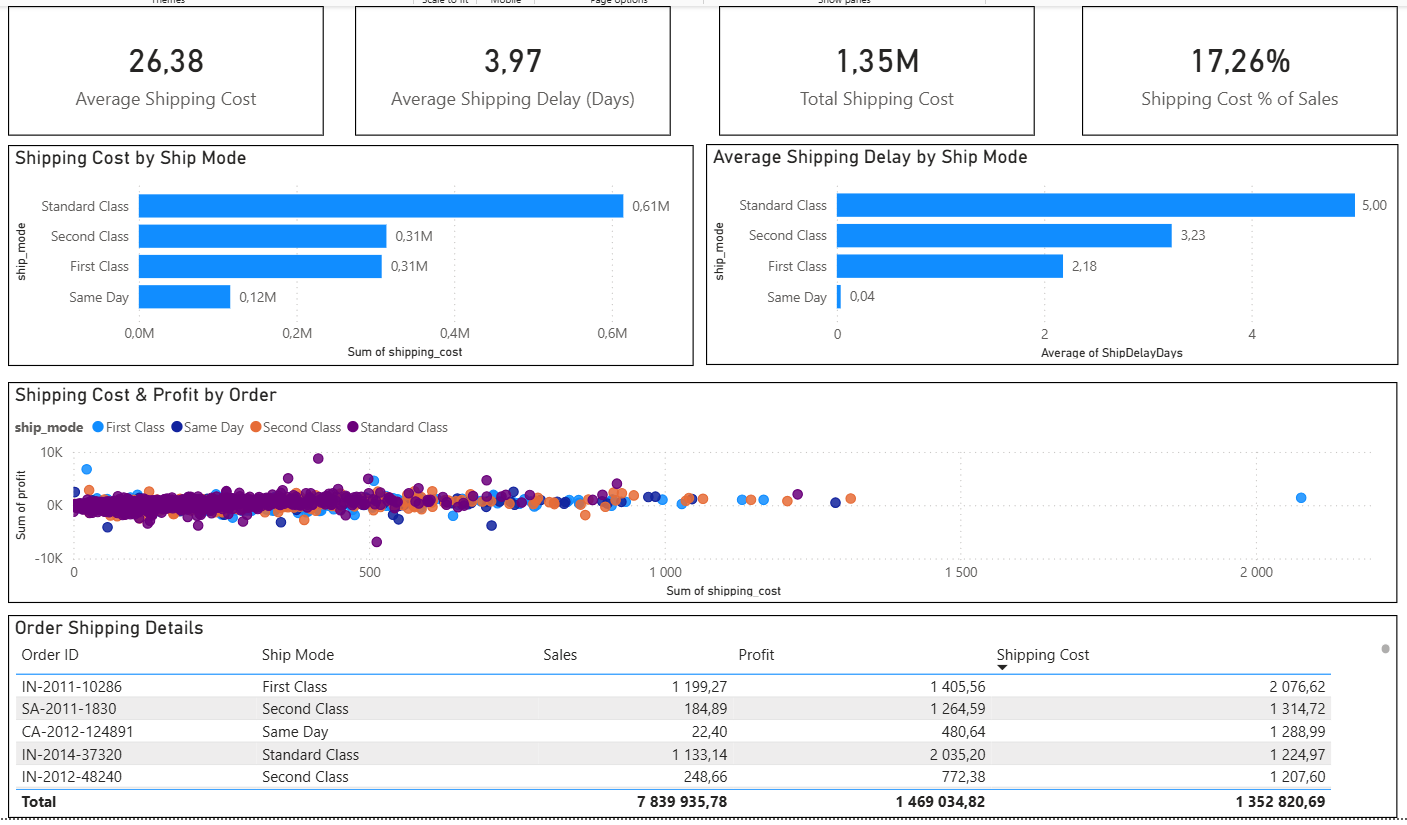

This screenshot's page, from the dashboard's own definition file:
{"tool":"powerbi","page":{"name":"Shipping & Logistics","canvas":[1280,720],"ordinal":5},"visuals":[{"type":"card","fields":{"Values":["Avg(SuperStoreOrders.shipping_cost)"]},"box":[21.4,0,280.1,114.8],"z":0},{"type":"card","fields":{"Values":["Avg(SuperStoreOrders.ShipDelayDays)"]},"box":[328.8,0,280.1,114.8],"z":1000},{"type":"card","fields":{"Values":["Sum(SuperStoreOrders.shipping_cost)"]},"box":[651.7,0,280.1,114.8],"z":2000},{"type":"card","fields":{"Values":["SuperStoreOrders.ShippingCostPercent"]},"box":[973.6,0,280.1,114.8],"z":3000},{"type":"clusteredBarChart","title":"Shipping Cost by Ship Mode","fields":{"Category":["SuperStoreOrders.ship_mode"],"Y":["Sum(SuperStoreOrders.shipping_cost)"]},"box":[21.4,123.5,607.9,195.5],"z":4000},{"type":"clusteredBarChart","title":"Average Shipping Delay by Ship Mode","fields":{"Category":["SuperStoreOrders.ship_mode"],"Y":["Avg(SuperStoreOrders.ShipDelayDays)"]},"box":[640,122.6,613.7,196.5],"z":5000},{"type":"scatterChart","title":"Shipping Cost & Profit by Order","fields":{"X":["Sum(SuperStoreOrders.shipping_cost)"],"Y":["Sum(SuperStoreOrders.profit)"],"Category":["SuperStoreOrders.order_id"],"Series":["SuperStoreOrders.ship_mode"]},"box":[21.4,333.6,1232.3,196.5],"z":6000},{"type":"tableEx","title":"Order Shipping Details","fields":{"Values":["SuperStoreOrders.order_id","SuperStoreOrders.ship_mode","Sum(SuperStoreOrders.sales)","Sum(SuperStoreOrders.profit)","Sum(SuperStoreOrders.shipping_cost)"]},"box":[21,540,1232,180],"z":7000}]}

Visuals, with their boxes in screenshot pixels (x1, y1, x2, y2):
card - Avg(SuperStoreOrders.shipping_cost): {"left": 6, "top": 4, "right": 321, "bottom": 133}
card - Avg(SuperStoreOrders.ShipDelayDays): {"left": 351, "top": 4, "right": 666, "bottom": 133}
card - Sum(SuperStoreOrders.shipping_cost): {"left": 714, "top": 4, "right": 1029, "bottom": 133}
card - SuperStoreOrders.ShippingCostPercent: {"left": 1076, "top": 4, "right": 1391, "bottom": 133}
"Shipping Cost by Ship Mode" clusteredBarChart: {"left": 6, "top": 142, "right": 689, "bottom": 362}
"Average Shipping Delay by Ship Mode" clusteredBarChart: {"left": 701, "top": 141, "right": 1391, "bottom": 362}
"Shipping Cost & Profit by Order" scatterChart: {"left": 6, "top": 379, "right": 1391, "bottom": 599}
"Order Shipping Details" tableEx: {"left": 5, "top": 611, "right": 1390, "bottom": 813}
